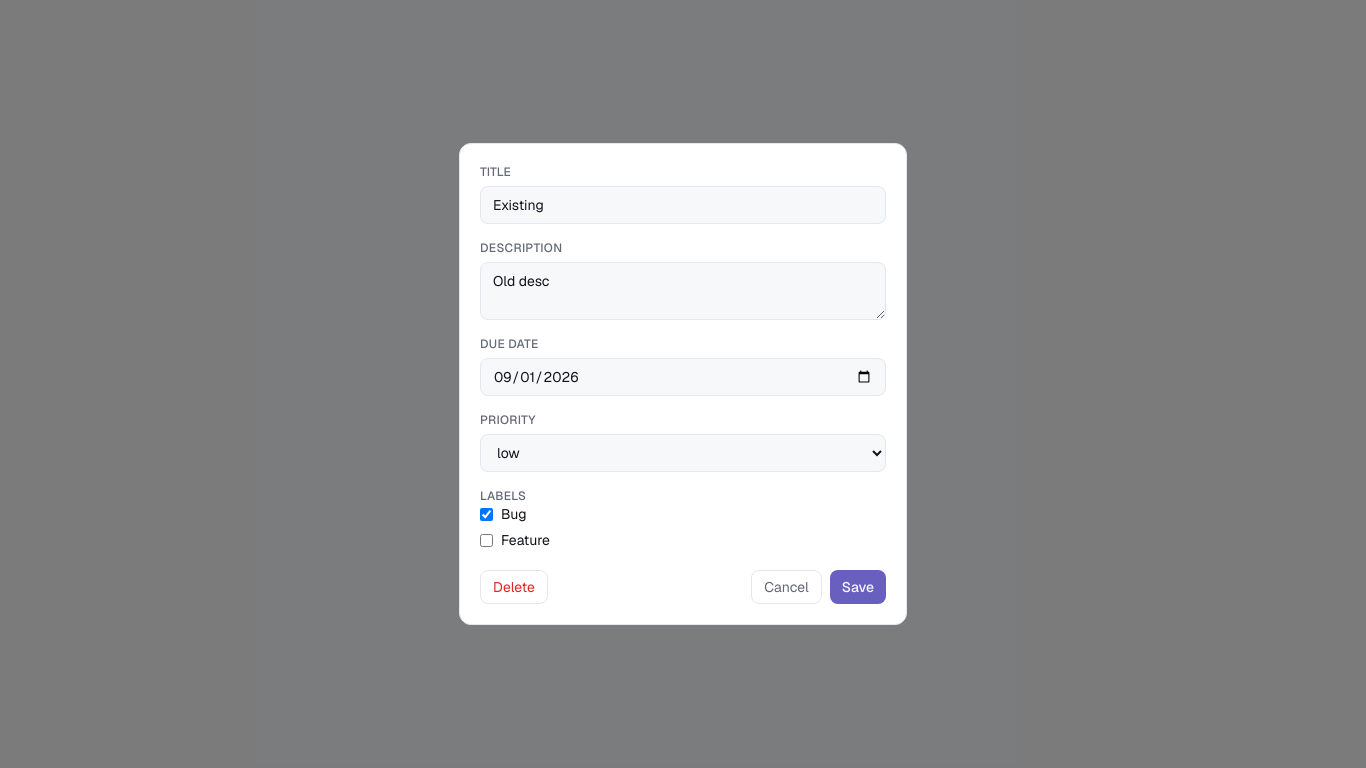
Test: CardModal (edit mode) › does not delete on the first click -- it asks for confirmation first
Click the button "Delete". click: click(514, 587)
box: [480,570,548,604]
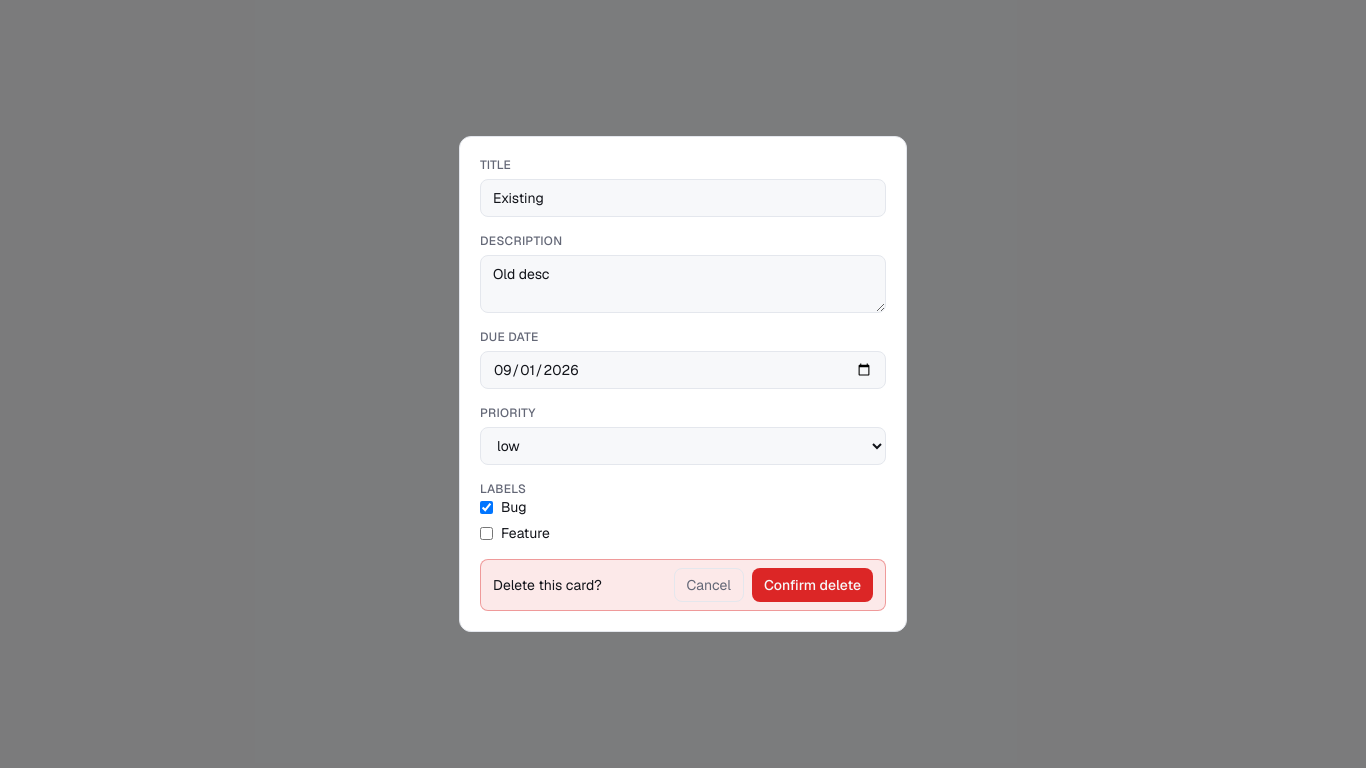
Check: the text "Delete this card?" is shown, box [493,575,602,595]
